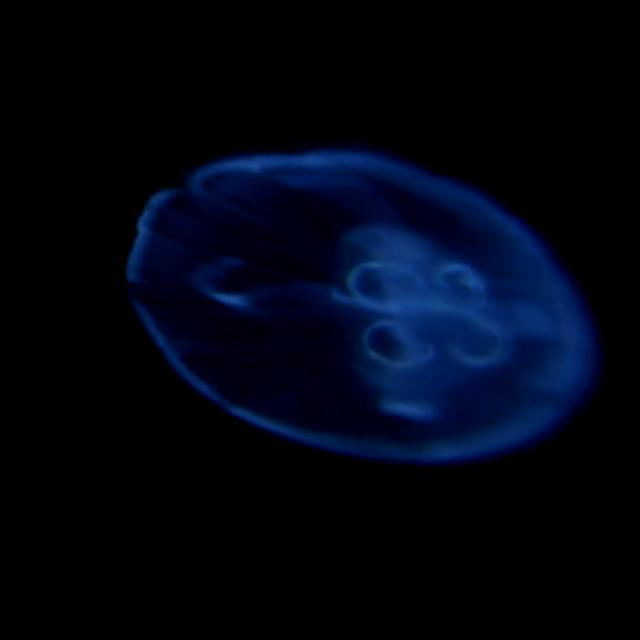Moon-jellyfish: (123, 134, 618, 470)
